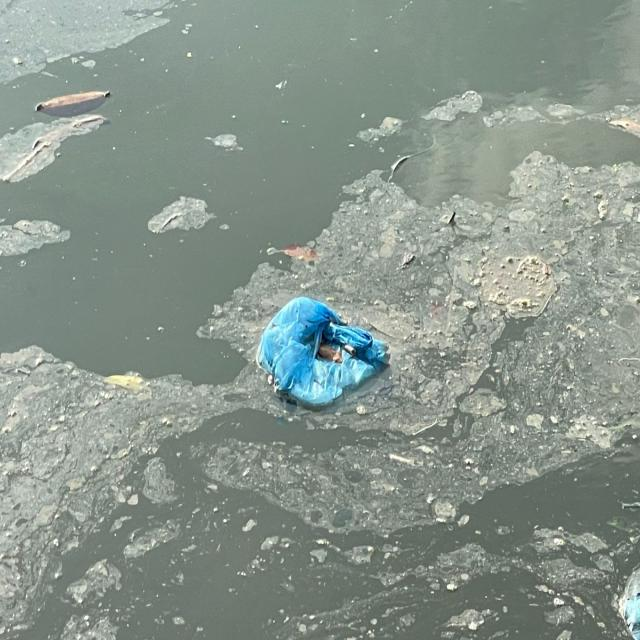Kantong Plastik: (252, 289, 390, 414)
